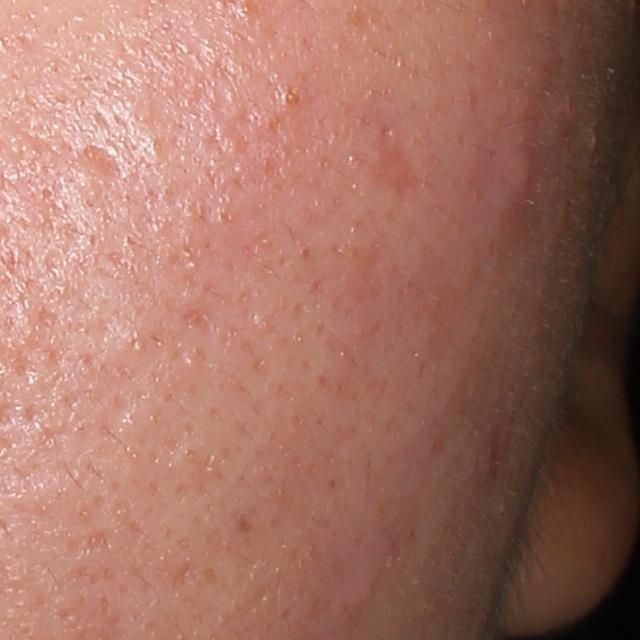atrophic_scar: (365, 99, 416, 197), (79, 140, 123, 180), (170, 555, 195, 593)
comedo: (276, 82, 309, 110)
papule: (503, 152, 541, 208)
